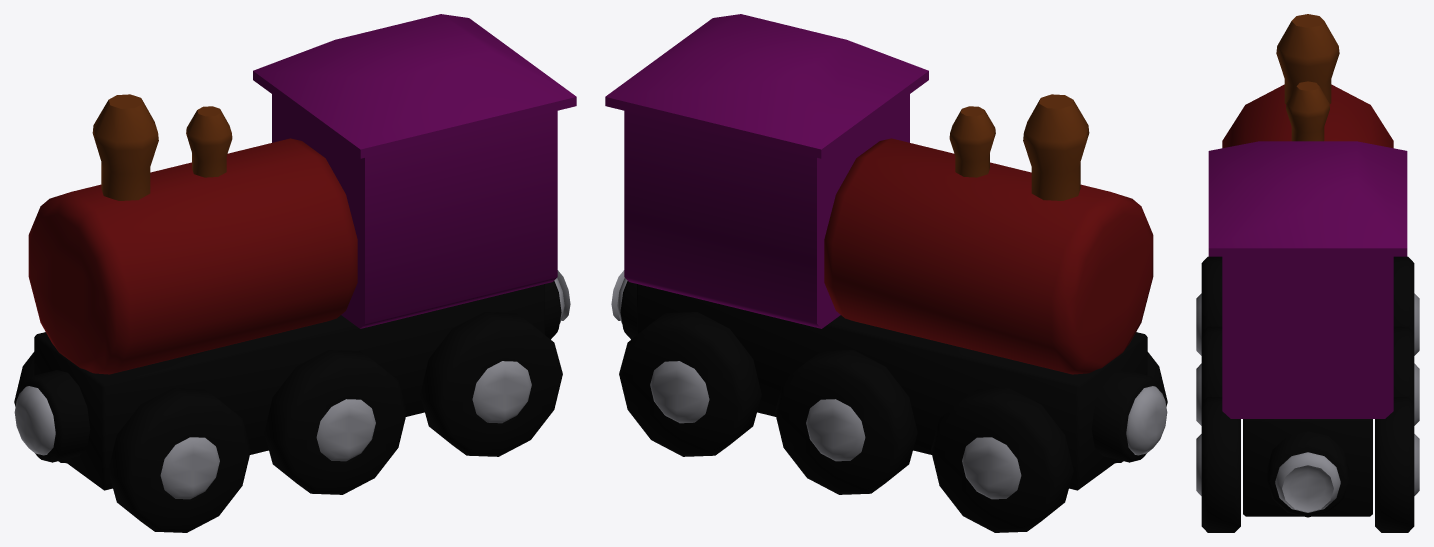
File: train.fbx
3 renders of one model, left to right at view 1: azimuth 30°, elevation 25°; view 2: azimuth 150°, elevation 25°; view 3: azimuth 270°, elevation 25°, orthographic. The views are drawn at different scales.
Parts seen in each view (by area): view 1: Train_Complete; view 2: Train_Complete; view 3: Train_Complete.
Boxes of the visible parts, x1,y1,x2,y2 form: Train_Complete: [14, 14, 576, 532]; Train_Complete: [605, 14, 1167, 532]; Train_Complete: [1196, 14, 1419, 532].
Bounding box in the file's own units: 605 × 428 × 239.
